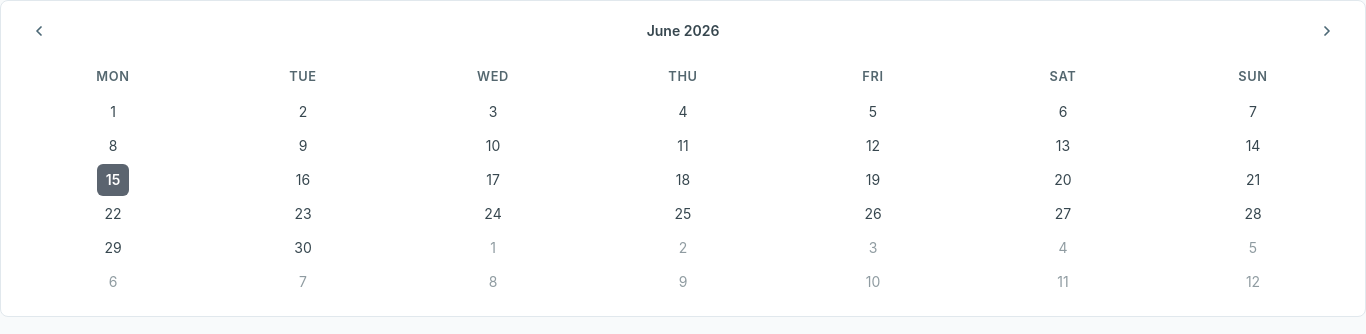
Calendar — month navigation buttons › clicking "Next month" steps forward one month
The width and height of the screenshot is (1366, 334).
Click the button named "next month" at (1327,31), box [1313,17,1341,45]
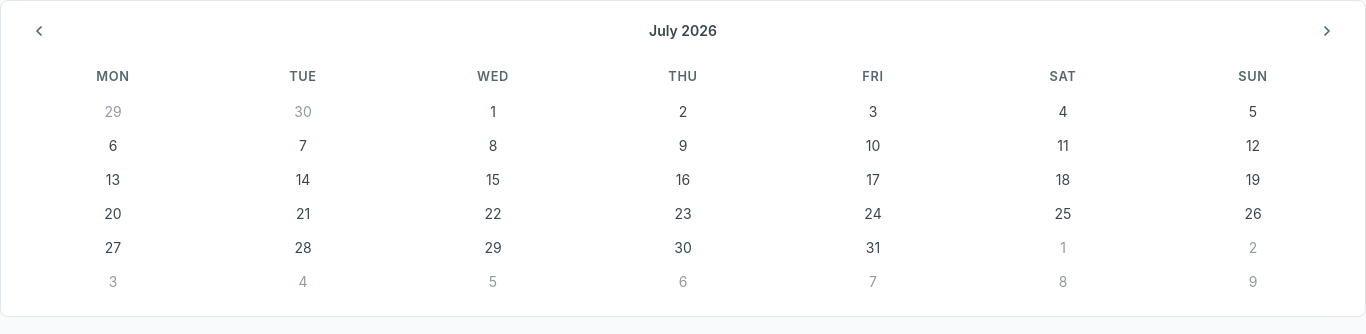
Expected: the number of buttons named "Previous month" is 2, [25,17,53,45]; [1313,17,1341,45]
Result: the text "July 2026" is shown at [649,22,717,39]
